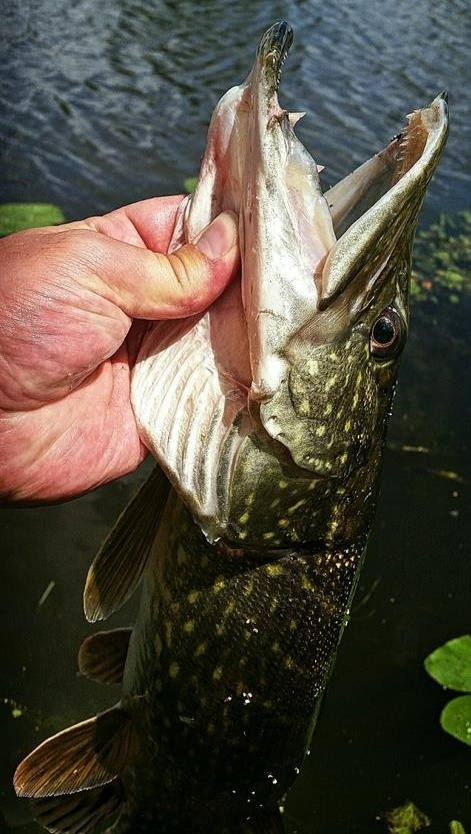Esox lucius: (13, 20, 451, 834)
